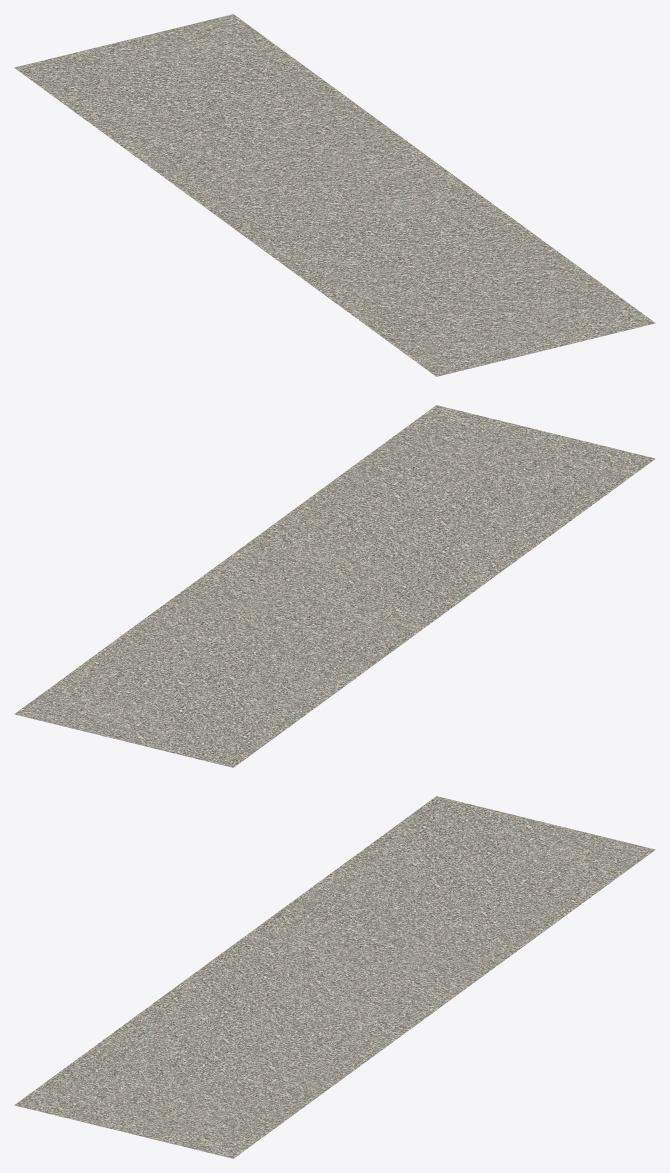
Rendered from Road_gravel_floor_02_Straight.fbx.
3 views of the same model, one above another, from view 1: azimuth 30°, elevation 25°; view 2: azimuth 150°, elevation 25°; view 3: azimuth 330°, elevation 25° (orthographic).
Parts seen in each view (by area): view 1: Road_gravel_floor_02_Straight; view 2: Road_gravel_floor_02_Straight; view 3: Road_gravel_floor_02_Straight.
Boxes of the visible parts, x1,y1,x2,y2 form: Road_gravel_floor_02_Straight: [14, 14, 655, 376]; Road_gravel_floor_02_Straight: [14, 405, 655, 767]; Road_gravel_floor_02_Straight: [14, 796, 655, 1158].
Size of the model in its own units: 1.2 by 6.52e-07 by 4.
Materials: 1 (1 with a texture image).
